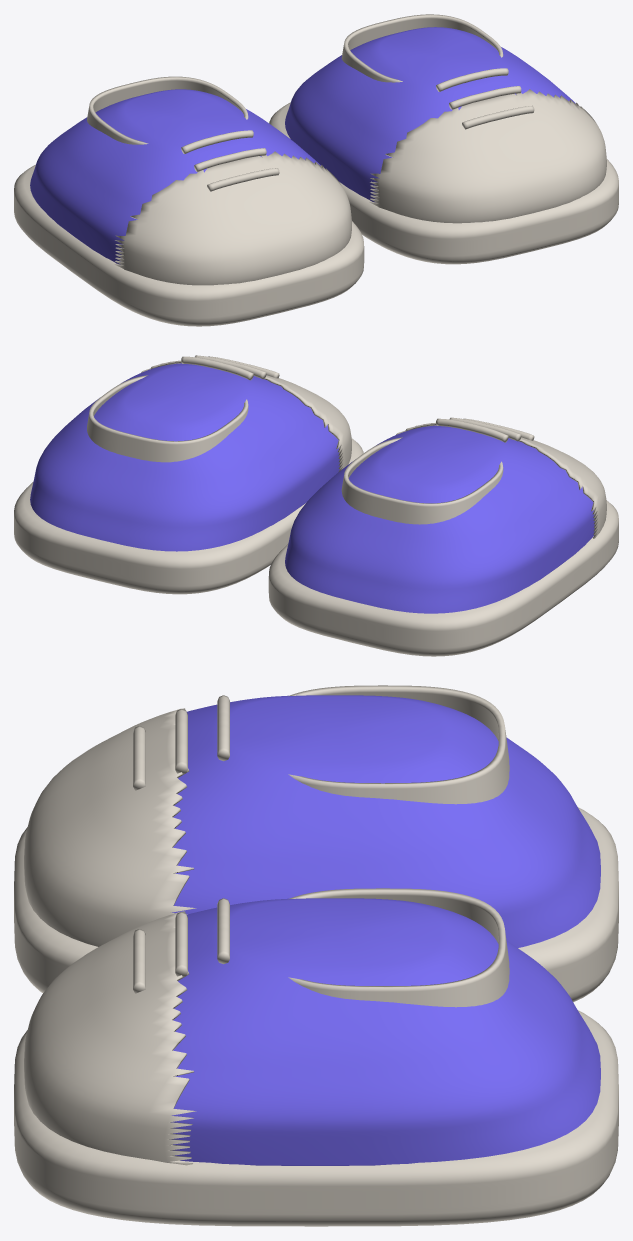
Rendered from colleague_sneakers.glb.
3 views of the same model, one above another, from view 1: azimuth 30°, elevation 25°; view 2: azimuth 150°, elevation 25°; view 3: azimuth 270°, elevation 25° (orthographic). The views are drawn at different scales.
Parts seen in each view (by area): view 1: colleague_sneakers__toe_cap_l, colleague_sneakers__toe_cap_r, colleague_sneakers__upper_r, colleague_sneakers__upper_l, colleague_sneakers__sole_r, colleague_sneakers__sole_l, colleague_sneakers__ankle_collar_r, colleague_sneakers__ankle_collar_l, colleague_sneakers__lace_l_0, colleague_sneakers__lace_l_1, colleague_sneakers__lace_r_0, colleague_sneakers__lace_r_1 (+2 smaller); view 2: colleague_sneakers__upper_r, colleague_sneakers__upper_l, colleague_sneakers__sole_r, colleague_sneakers__sole_l, colleague_sneakers__ankle_collar_l, colleague_sneakers__ankle_collar_r, colleague_sneakers__toe_cap_r, colleague_sneakers__toe_cap_l, colleague_sneakers__lace_l_0, colleague_sneakers__lace_r_0; view 3: colleague_sneakers__upper_l, colleague_sneakers__upper_r, colleague_sneakers__sole_l, colleague_sneakers__toe_cap_l, colleague_sneakers__toe_cap_r, colleague_sneakers__sole_r, colleague_sneakers__ankle_collar_r, colleague_sneakers__ankle_collar_l, colleague_sneakers__lace_l_0, colleague_sneakers__lace_r_0, colleague_sneakers__lace_l_1, colleague_sneakers__lace_r_1 (+2 smaller).
Part boxes in pixels (<box>): colleague_sneakers__toe_cap_l: <box>369,89,606,223</box>; colleague_sneakers__toe_cap_r: <box>114,151,351,285</box>; colleague_sneakers__upper_r: <box>30,89,320,264</box>; colleague_sneakers__upper_l: <box>285,27,575,202</box>; colleague_sneakers__sole_r: <box>14,164,364,326</box>; colleague_sneakers__sole_l: <box>269,102,618,264</box>; colleague_sneakers__ankle_collar_r: <box>87,76,248,144</box>; colleague_sneakers__ankle_collar_l: <box>341,14,503,82</box>; colleague_sneakers__lace_l_0: <box>436,68,508,91</box>; colleague_sneakers__lace_l_1: <box>449,86,521,109</box>; colleague_sneakers__lace_r_0: <box>181,130,253,153</box>; colleague_sneakers__lace_r_1: <box>194,148,266,171</box>; colleague_sneakers__upper_r: <box>285,425,594,613</box>; colleague_sneakers__upper_l: <box>30,363,339,551</box>; colleague_sneakers__sole_r: <box>268,500,618,656</box>; colleague_sneakers__sole_l: <box>14,438,363,594</box>; colleague_sneakers__ankle_collar_l: <box>87,375,248,462</box>; colleague_sneakers__ankle_collar_r: <box>341,437,503,524</box>; colleague_sneakers__toe_cap_r: <box>396,422,606,538</box>; colleague_sneakers__toe_cap_l: <box>141,360,351,471</box>; colleague_sneakers__lace_l_0: <box>181,356,253,380</box>; colleague_sneakers__lace_r_0: <box>436,418,508,442</box>; colleague_sneakers__upper_l: <box>171,898,600,1165</box>; colleague_sneakers__upper_r: <box>172,695,600,947</box>; colleague_sneakers__sole_l: <box>14,1010,618,1226</box>; colleague_sneakers__toe_cap_l: <box>24,911,196,1165</box>; colleague_sneakers__toe_cap_r: <box>24,708,196,946</box>; colleague_sneakers__sole_r: <box>14,807,618,1002</box>; colleague_sneakers__ankle_collar_r: <box>288,685,509,804</box>; colleague_sneakers__ankle_collar_l: <box>288,888,509,1007</box>; colleague_sneakers__lace_l_0: <box>217,898,229,964</box>; colleague_sneakers__lace_r_0: <box>217,695,229,761</box>; colleague_sneakers__lace_l_1: <box>175,912,187,977</box>; colleague_sneakers__lace_r_1: <box>175,709,187,774</box>.
Bounding box in the file's own units: 2.02 × 0.5135 × 1.31.
